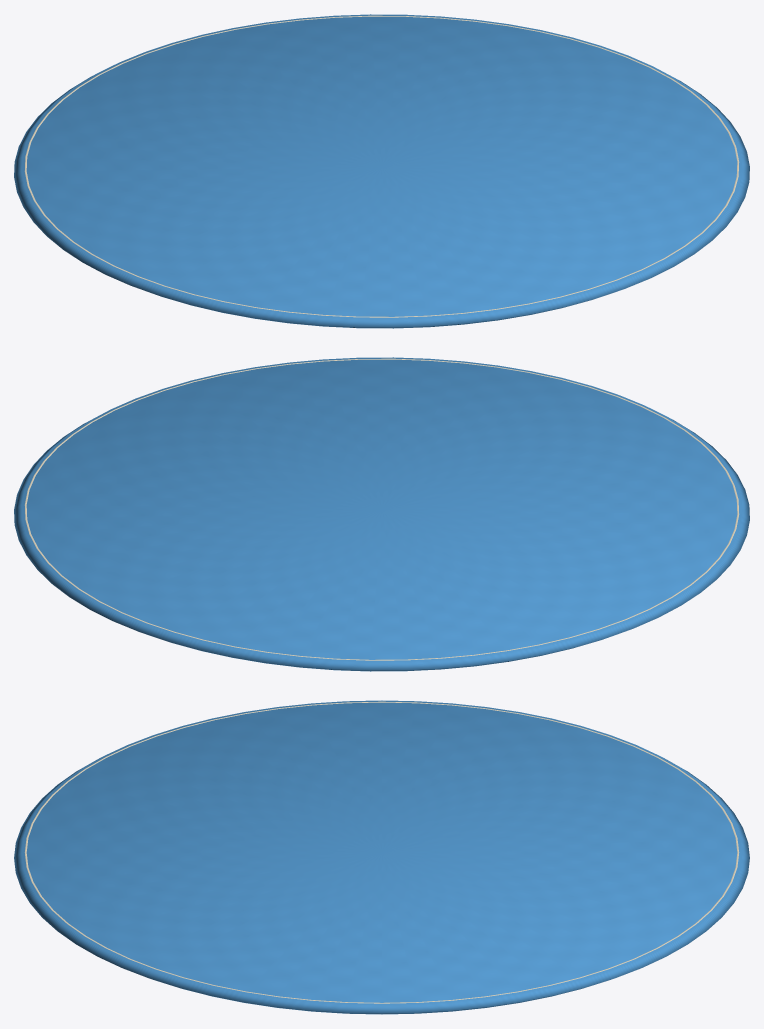
Rendered from Round_Rug.glb.
3 renders of one model, top to bottom at view 1: azimuth 30°, elevation 25°; view 2: azimuth 150°, elevation 25°; view 3: azimuth 270°, elevation 25°, orthographic.
Parts seen in each view (by area): view 1: Round_Rug; view 2: Round_Rug; view 3: Round_Rug.
Part boxes in pixels (left/top/right/bottom): Round_Rug: left=14, top=14, right=749, bottom=328; Round_Rug: left=14, top=357, right=749, bottom=671; Round_Rug: left=14, top=700, right=749, bottom=1014.
Size of the model in its own units: 1.88 by 0.028 by 1.88.
2 materials, 2 textured.
